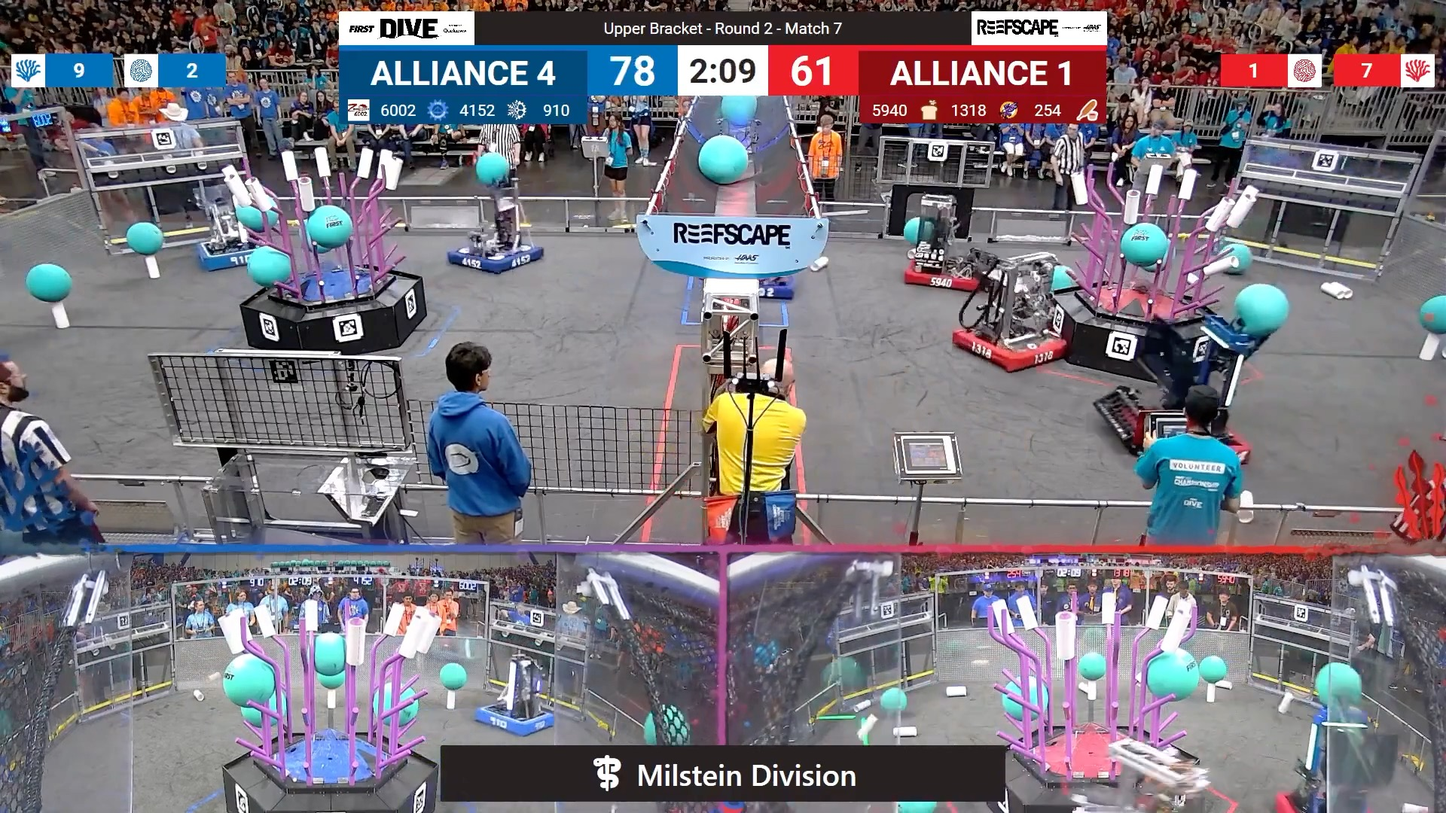bumpers: (1099, 404, 1251, 471), (948, 317, 1079, 376), (895, 248, 1006, 297), (439, 242, 549, 277), (466, 700, 560, 740), (1270, 785, 1384, 813), (189, 238, 272, 276), (749, 275, 802, 304)
